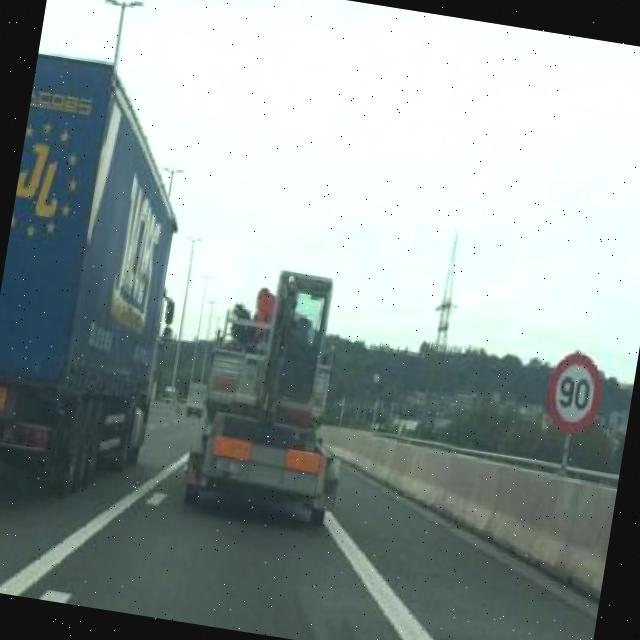Ograniczenie predkosci do 90: (546, 349, 606, 436)
